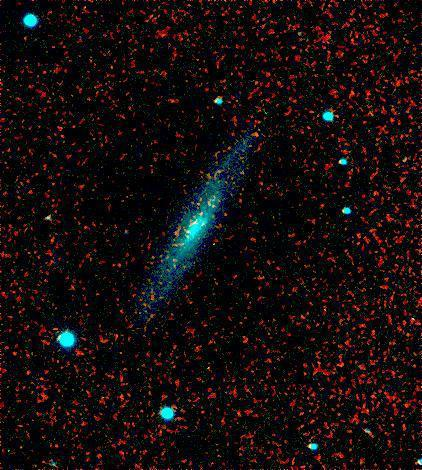star: (241, 121, 271, 151)
